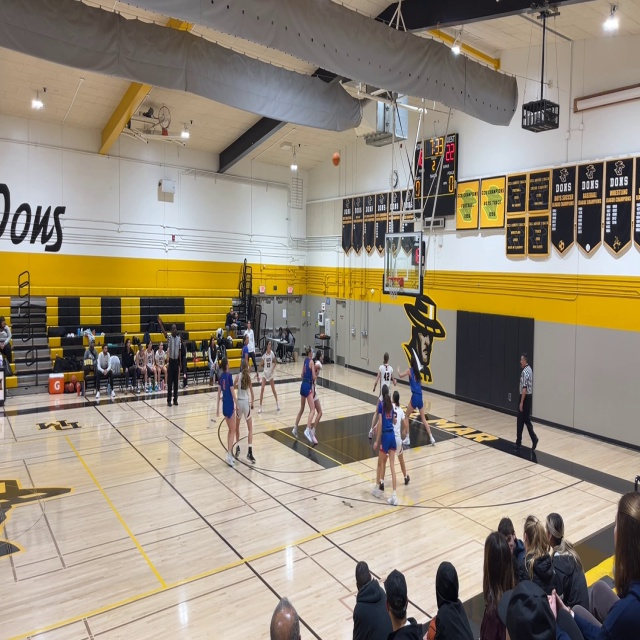Basketball: (332, 152, 340, 166)
